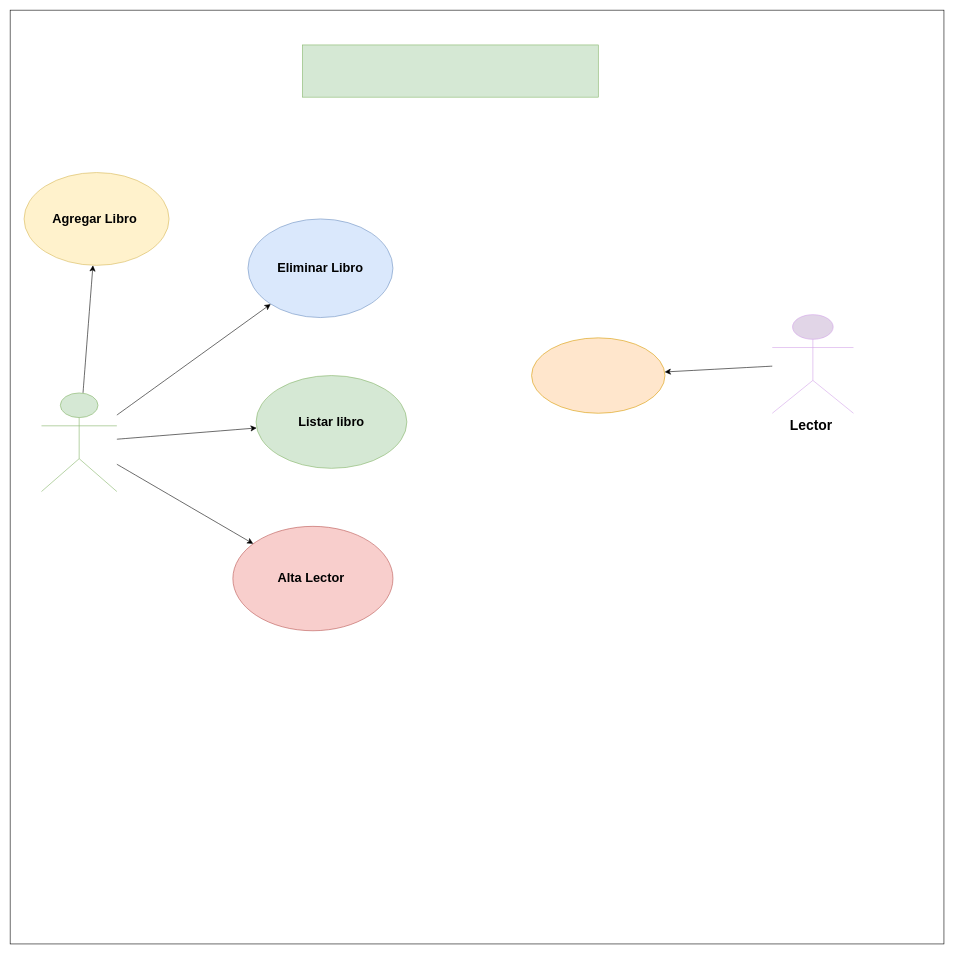
This 954x954 diagram has some shape labels left out. Here are the shapes that lost their labels. From the top down, the centre of each, then its label:
[450,70]: Sistema Biblioteca
[598,375]: Realizar Préstamo
[79,442]: ADMINISTRADOR (Bibliotecario)
